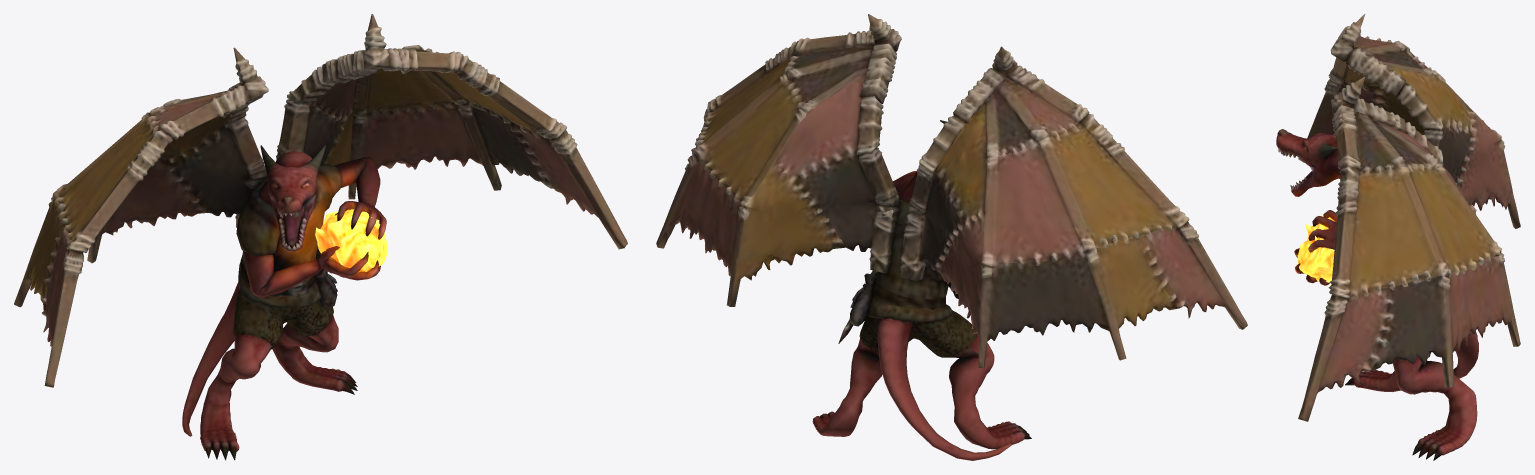
Rendered from MZ4250 - Kobold Sorcerer 2025.glb.
The picture shows the model from 3 angles, left to right: view 1: azimuth 30°, elevation 25°; view 2: azimuth 150°, elevation 25°; view 3: azimuth 270°, elevation 25°; orthographic projection. The views are drawn at different scales.
Visible parts, largest first — view 1: Body.001; view 2: Body.001; view 3: Body.001.
Boxes of the visible parts, x1,y1,x2,y2 form: Body.001: [14, 14, 627, 460]; Body.001: [656, 14, 1247, 460]; Body.001: [1276, 14, 1520, 460].
Size of the model in its own units: 127 by 83.77 by 49.39.
3 materials, 3 textured.
